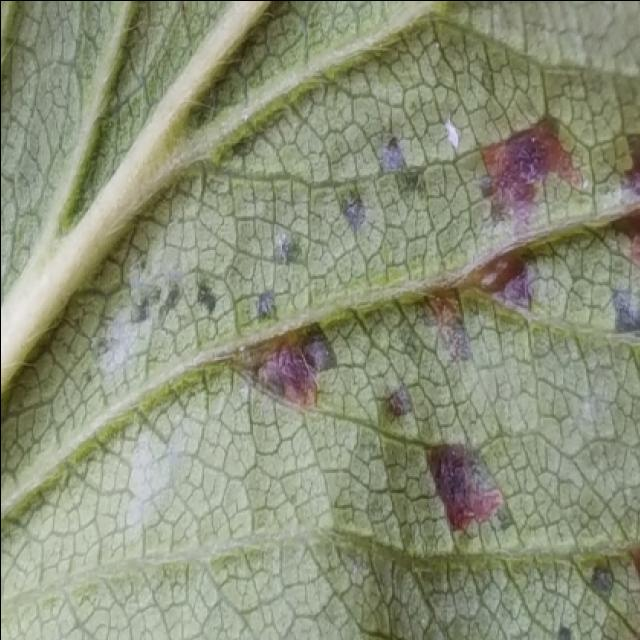Angular Leafspot: (78, 109, 638, 639)
